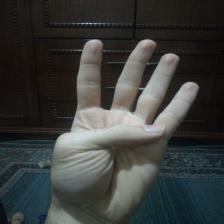four: (52, 38, 198, 210)
